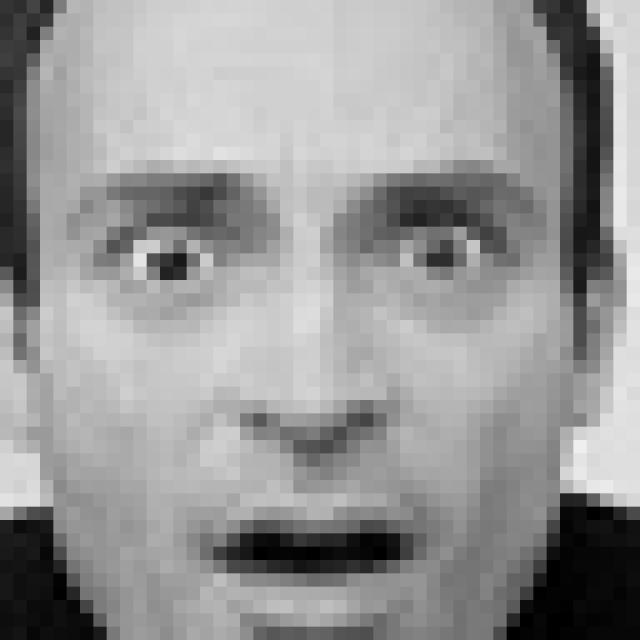surprise: (84, 157, 539, 640)
